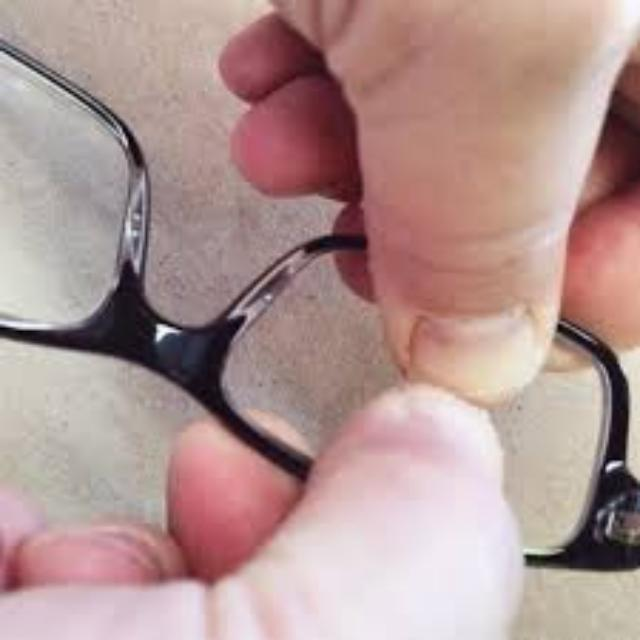glasses: (0, 34, 640, 572)
